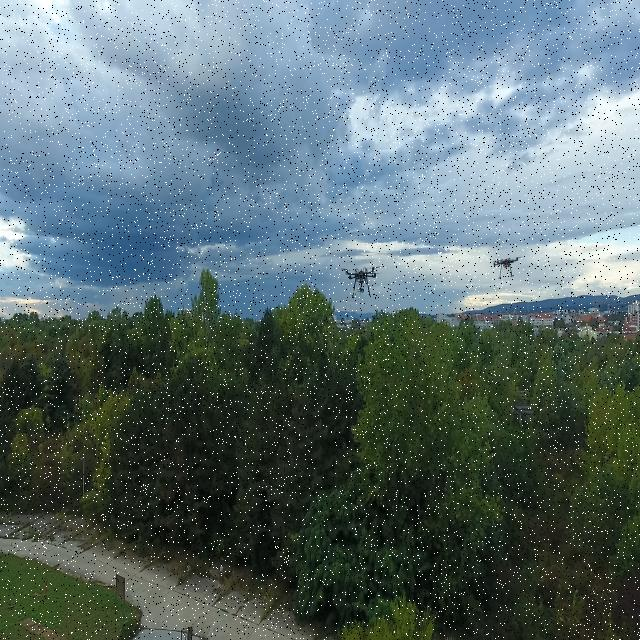UAV: (334, 258, 386, 303), (483, 251, 525, 280)
